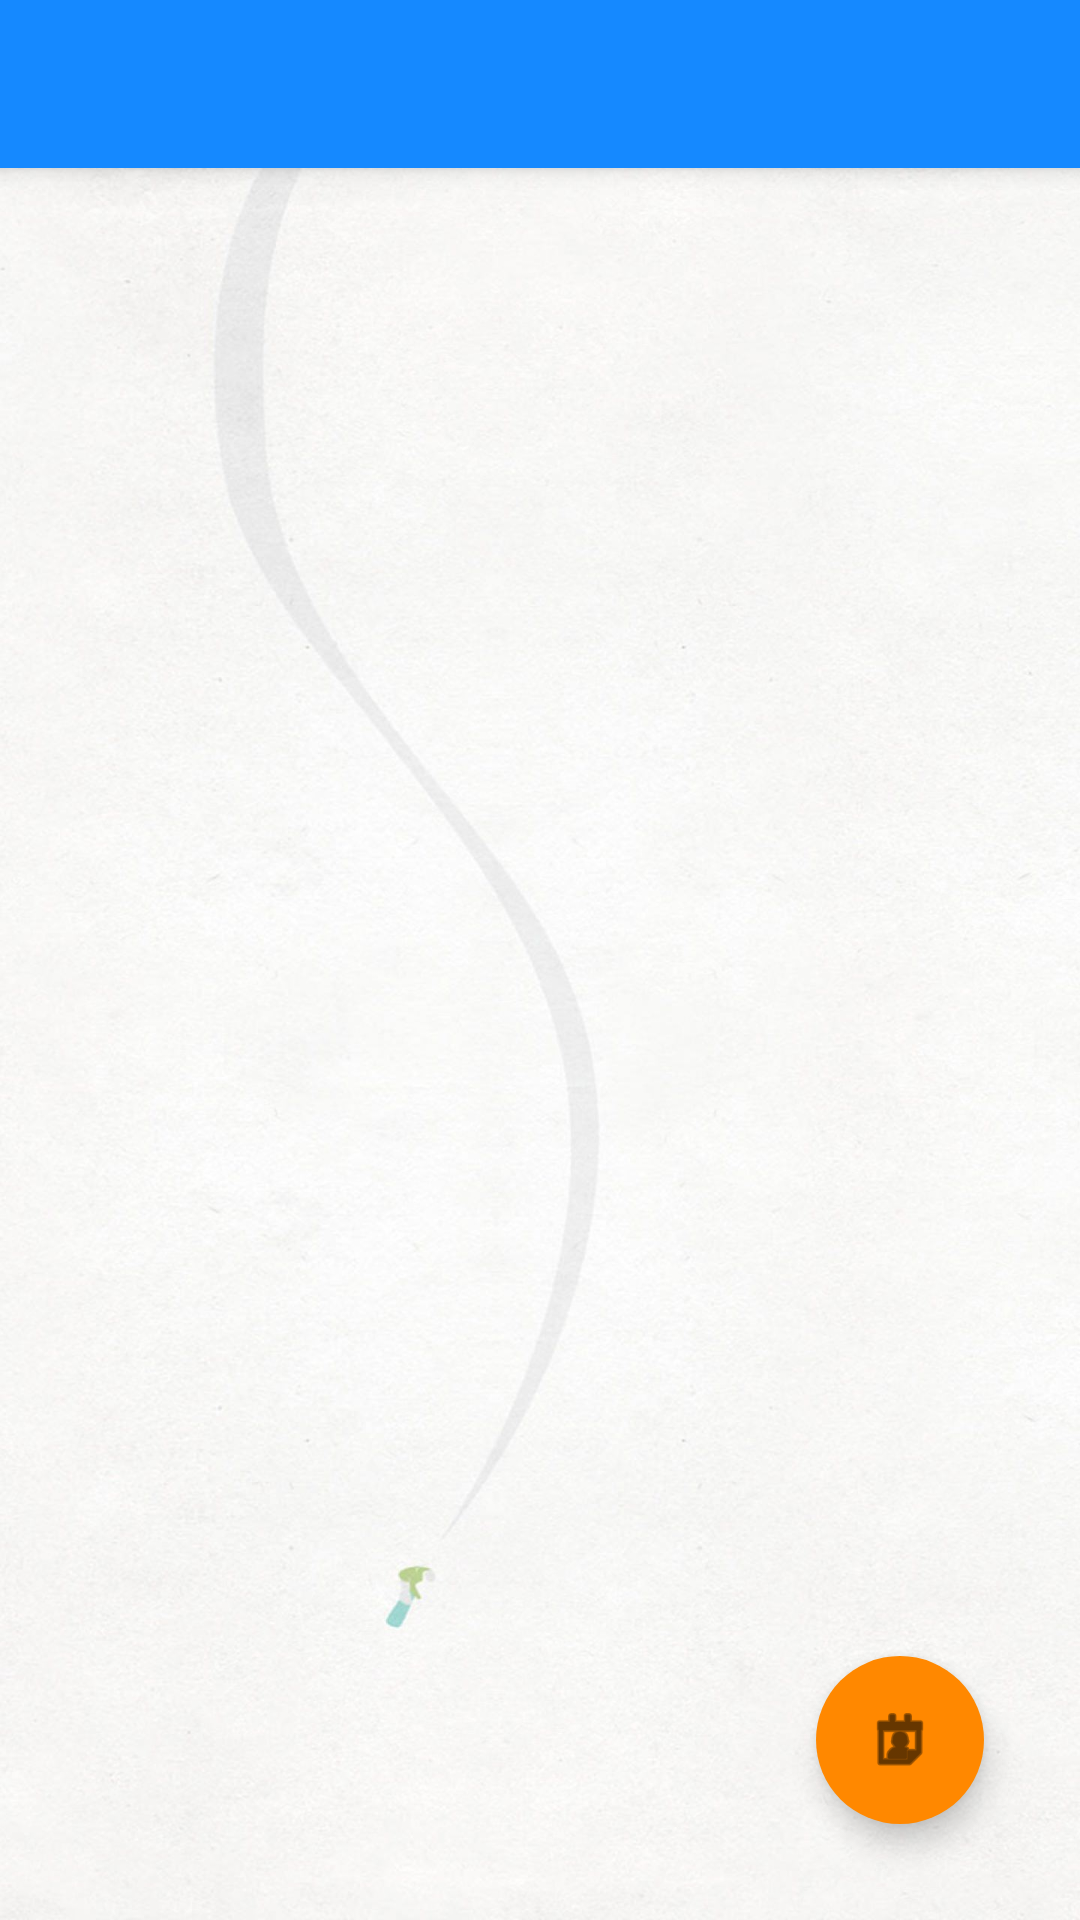

Named icons in this screenshot (1080 × 1920) and their bounding boxes, [x1=x1, y1=y1, x2=x2, y2=y2]:
calendar: [x1=816, y1=1656, x2=984, y2=1824]
